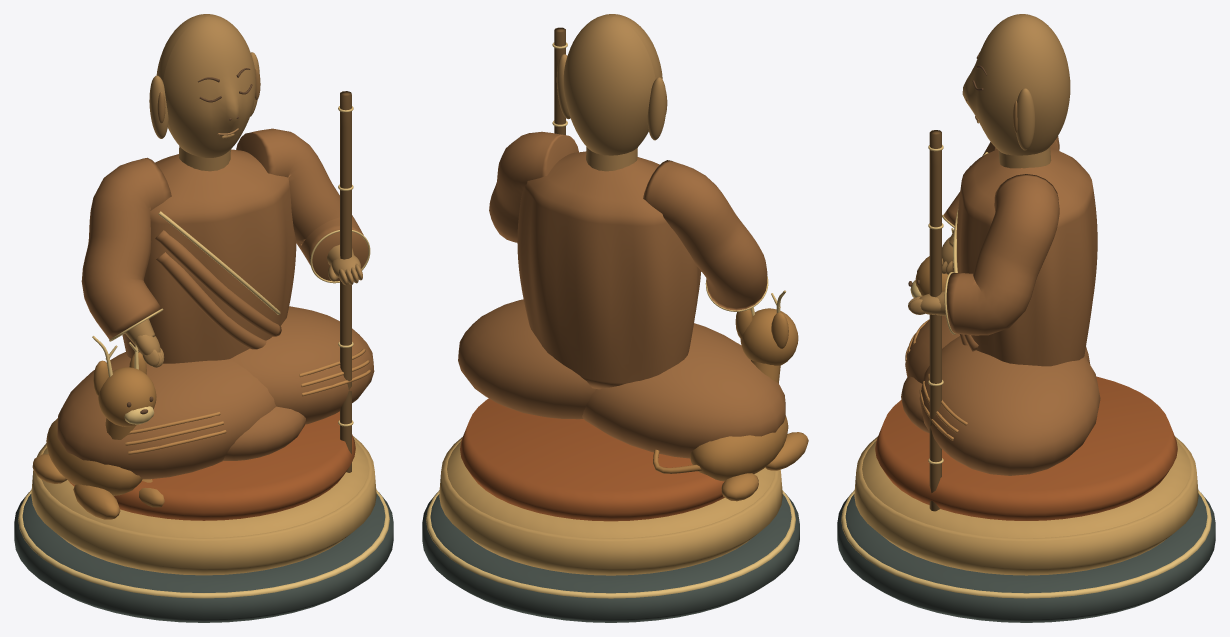
Rendered from arhat_15.glb.
3 renders of one model, left to right at view 1: azimuth 30°, elevation 25°; view 2: azimuth 150°, elevation 25°; view 3: azimuth 270°, elevation 25°, orthographic.
Visible parts, largest first — view 1: arhat_15_ArhatDrapery, arhat_15_AntiqueGold, arhat_15_CarvedPlinth, arhat_15_WarmBronze, arhat_15_SaffronDrapery, arhat_15_AnimalBronze, arhat_15_RaisedGoldBorders, arhat_15_CarvedBamboo, arhat_15_DraperyFoldHighlights; view 2: arhat_15_ArhatDrapery, arhat_15_SaffronDrapery, arhat_15_AntiqueGold, arhat_15_CarvedPlinth, arhat_15_WarmBronze, arhat_15_AnimalBronze, arhat_15_RaisedGoldBorders, arhat_15_CarvedBamboo; view 3: arhat_15_ArhatDrapery, arhat_15_SaffronDrapery, arhat_15_AntiqueGold, arhat_15_CarvedPlinth, arhat_15_WarmBronze, arhat_15_CarvedBamboo, arhat_15_RaisedGoldBorders, arhat_15_DraperyFoldHighlights.
Part boxes in pixels (box(x1,y1,x2,y2)): arhat_15_ArhatDrapery: box(57, 128, 374, 479); arhat_15_AntiqueGold: box(31, 436, 376, 575); arhat_15_CarvedPlinth: box(14, 492, 393, 622); arhat_15_WarmBronze: box(125, 14, 362, 367); arhat_15_SaffronDrapery: box(69, 411, 355, 520); arhat_15_AnimalBronze: box(32, 352, 164, 519); arhat_15_RaisedGoldBorders: box(18, 106, 389, 598); arhat_15_CarvedBamboo: box(340, 91, 351, 472); arhat_15_DraperyFoldHighlights: box(125, 348, 371, 454); arhat_15_ArhatDrapery: box(458, 131, 785, 458); arhat_15_SaffronDrapery: box(460, 398, 724, 521); arhat_15_AntiqueGold: box(439, 437, 782, 575); arhat_15_CarvedPlinth: box(422, 493, 799, 622); arhat_15_WarmBronze: box(556, 14, 666, 171); arhat_15_AnimalBronze: box(653, 308, 808, 501); arhat_15_RaisedGoldBorders: box(426, 42, 795, 598); arhat_15_CarvedBamboo: box(554, 27, 565, 134); arhat_15_ArhatDrapery: box(901, 136, 1100, 475); arhat_15_SaffronDrapery: box(875, 376, 1177, 520); arhat_15_AntiqueGold: box(854, 436, 1198, 575); arhat_15_CarvedPlinth: box(837, 493, 1215, 622); arhat_15_WarmBronze: box(908, 14, 1070, 316); arhat_15_CarvedBamboo: box(929, 130, 941, 511); arhat_15_RaisedGoldBorders: box(841, 145, 1211, 598); arhat_15_DraperyFoldHighlights: box(905, 319, 967, 440).
Size of the model in its own units: 0.92 by 1.42 by 0.92.
